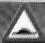Speed Breaker ahead: (6, 3, 40, 39)
